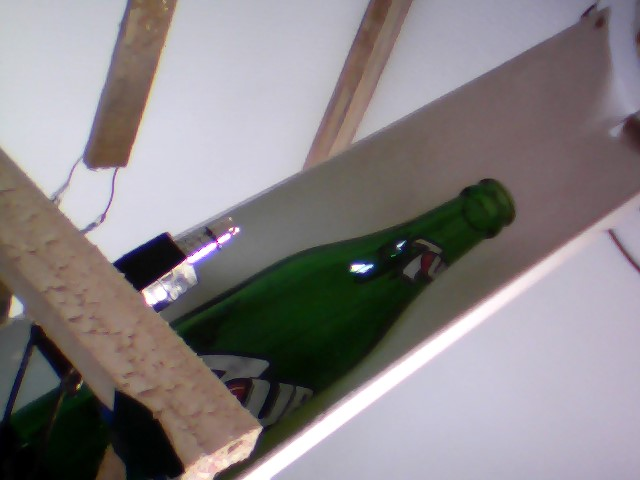vidrio: (183, 167, 538, 432)
